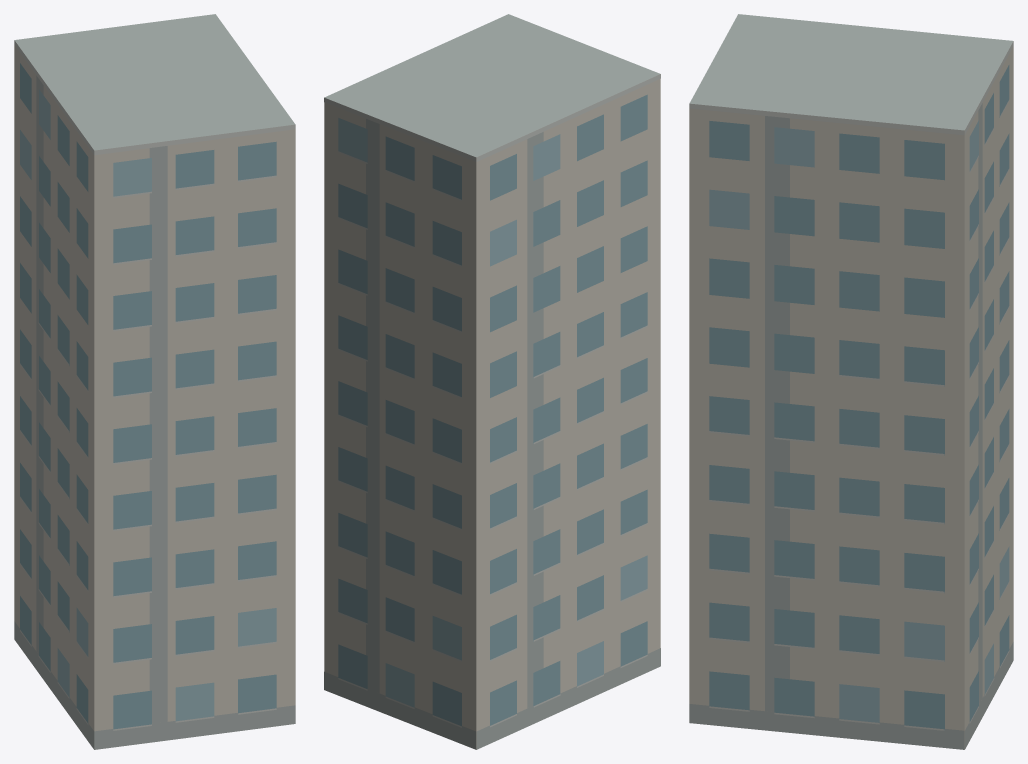
Rendered from residential-5da2dc4d-00c3-4d59-a6f2-eb94ca89dcff.glb.
3 views of the same model, side by side, from view 1: azimuth 30°, elevation 25°; view 2: azimuth 150°, elevation 25°; view 3: azimuth 270°, elevation 25° (orthographic). The views are drawn at different scales.
Parts seen in each view (by area): view 1: residential-5da2dc4d-00c3-4d59-a6f2-eb94ca89dcff.tmp; view 2: residential-5da2dc4d-00c3-4d59-a6f2-eb94ca89dcff.tmp; view 3: residential-5da2dc4d-00c3-4d59-a6f2-eb94ca89dcff.tmp.
Part boxes in pixels (<box>): residential-5da2dc4d-00c3-4d59-a6f2-eb94ca89dcff.tmp: <box>14,14,295,749</box>; residential-5da2dc4d-00c3-4d59-a6f2-eb94ca89dcff.tmp: <box>324,14,660,749</box>; residential-5da2dc4d-00c3-4d59-a6f2-eb94ca89dcff.tmp: <box>689,14,1013,749</box>.
Bounding box in the file's own units: 12.51 × 31 × 14.72.
